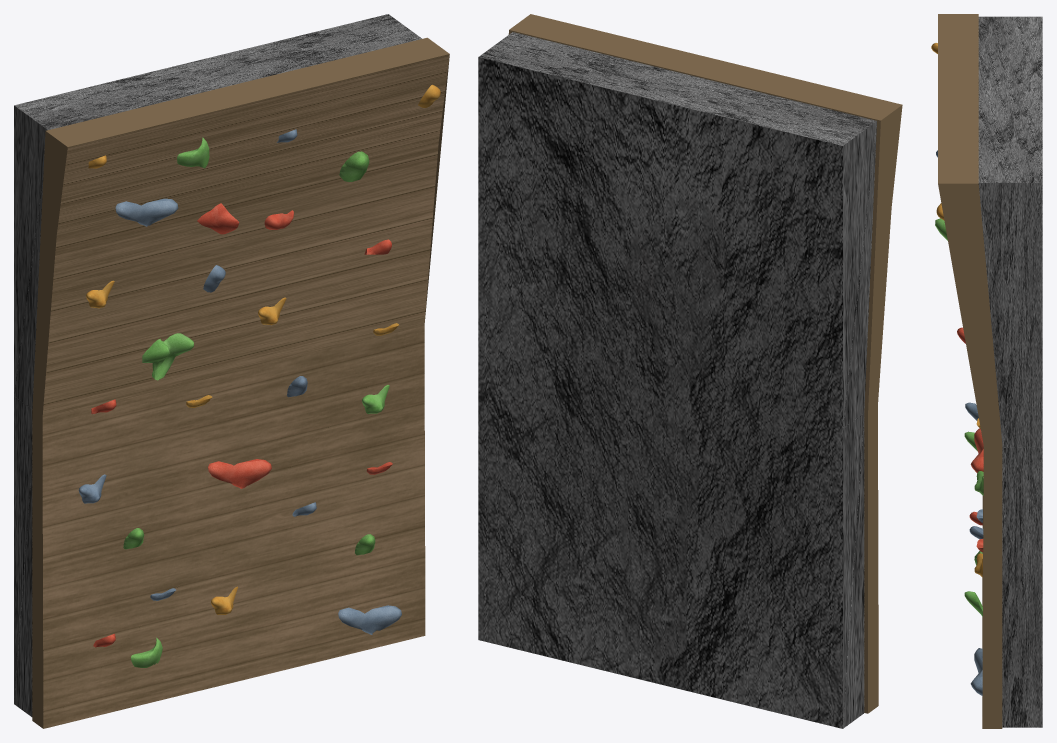
File: climbingwall.glb
3 renders of one model, left to right at view 1: azimuth 30°, elevation 25°; view 2: azimuth 150°, elevation 25°; view 3: azimuth 270°, elevation 25°, orthographic. The views are drawn at different scales.
Visible parts, largest first — view 1: pCube1, pCube2, shard6, shard14, shard17, shard16, shard25; view 2: pCube2, pCube1; view 3: pCube2, pCube1, shard17, shard14, shard33.
Boxes of the visible parts, left/top/right/bottom form: pCube1: left=32, top=37, right=449, bottom=728; pCube2: left=14, top=14, right=421, bottom=716; shard6: left=142, top=333, right=193, bottom=380; shard14: left=208, top=459, right=271, bottom=488; shard17: left=338, top=605, right=401, bottom=634; shard16: left=115, top=198, right=178, bottom=226; shard25: left=197, top=203, right=239, bottom=234; pCube2: left=478, top=32, right=876, bottom=728; pCube1: left=508, top=14, right=902, bottom=713; pCube2: left=978, top=16, right=1042, bottom=727; pCube1: left=938, top=14, right=1002, bottom=728; shard17: left=970, top=648, right=982, bottom=695; shard14: left=970, top=428, right=983, bottom=472; shard33: left=964, top=591, right=982, bottom=616.
Bounding box in the file's own units: 2.88 × 4.32 × 0.7986.
Materials: 6 (6 with a texture image).
